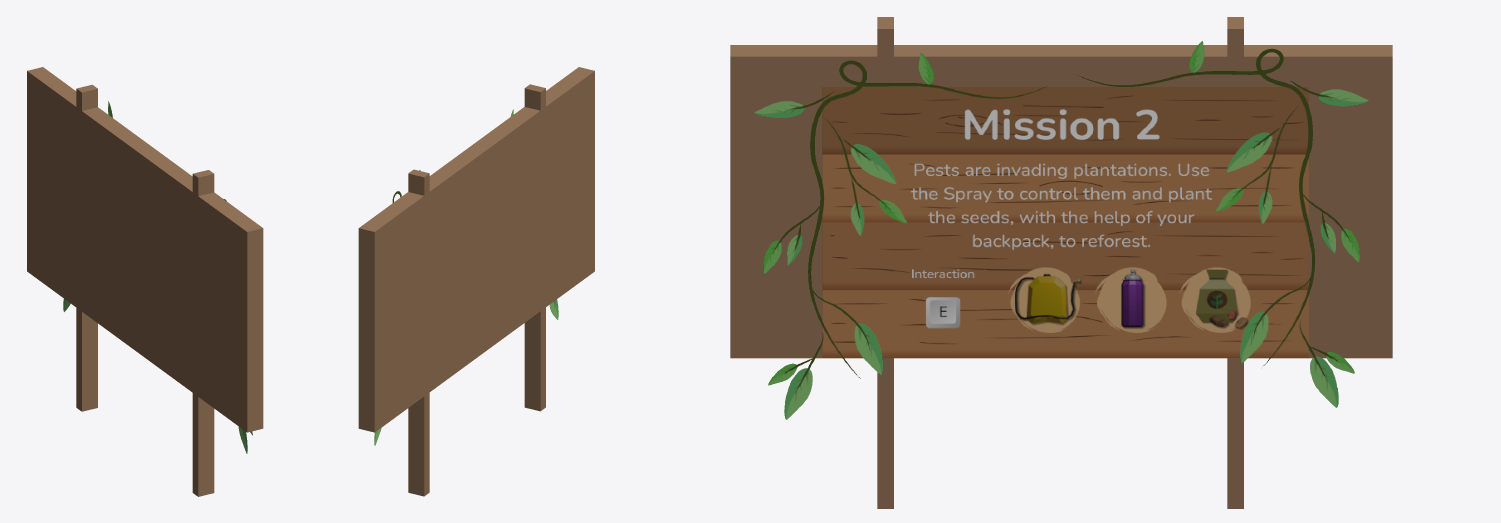
The model's file is reflorestamentoE.fbx.
3 views of the same model, side by side, from view 1: azimuth 30°, elevation 25°; view 2: azimuth 150°, elevation 25°; view 3: azimuth 270°, elevation 25° (orthographic). The views are drawn at different scales.
Parts seen in each view (by area): view 1: Cube; view 2: Cube; view 3: 2, Cube.
Boxes of the visible parts, x1,y1,x2,y2 form: Cube: [27, 67, 263, 496]; Cube: [358, 67, 594, 496]; 2: [754, 41, 1368, 419]; Cube: [730, 17, 1392, 508].
Size of the model in its own units: 19.19 by 329 by 511.
